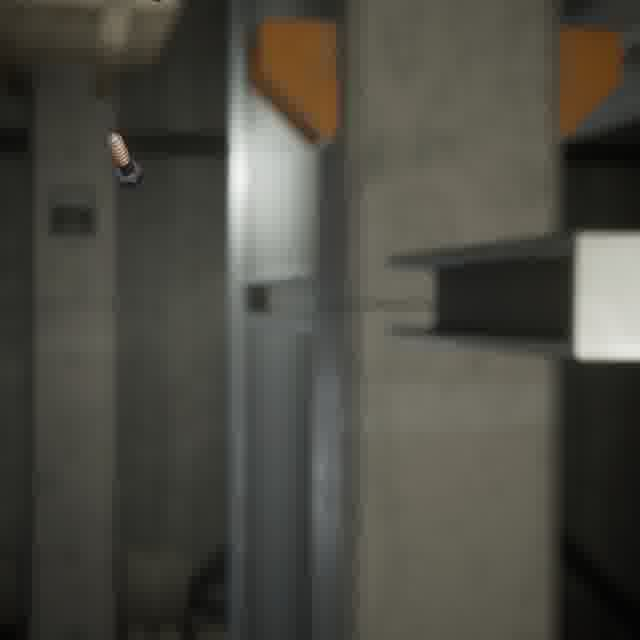bolt: (102, 128, 148, 191)
